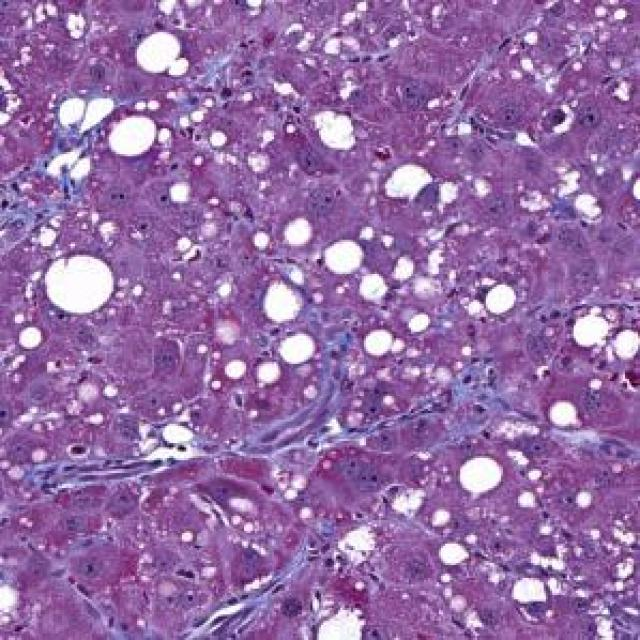fibrosis: (304, 351, 509, 450)
